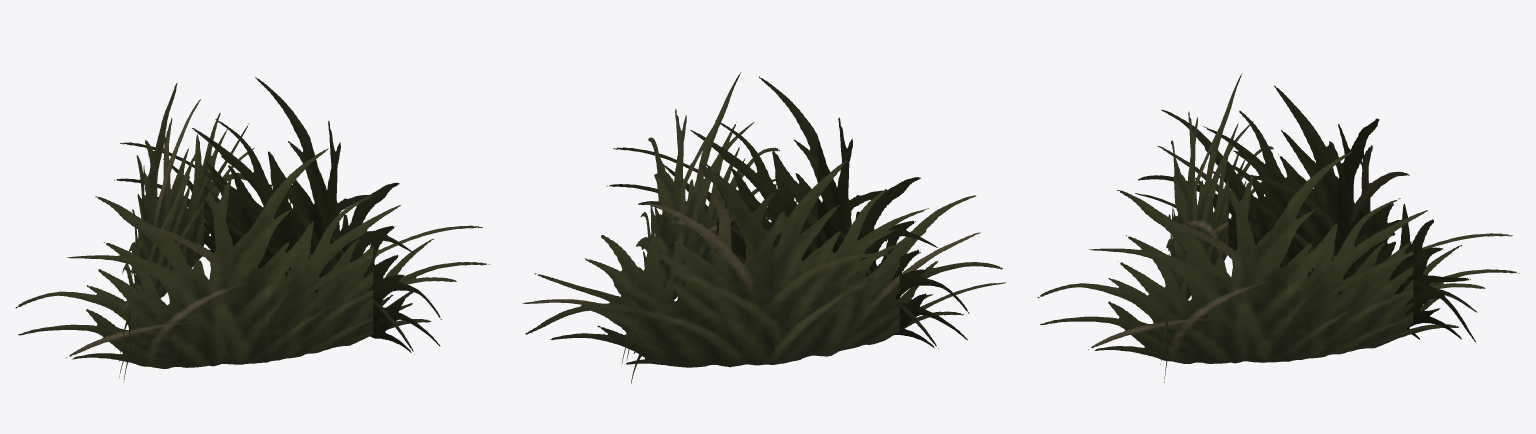
3 views of the same model, side by side, from view 1: azimuth 30°, elevation 25°; view 2: azimuth 150°, elevation 25°; view 3: azimuth 270°, elevation 25° (orthographic).
Parts seen in each view (by area): view 1: Bent meadow card; view 2: Bent meadow card; view 3: Bent meadow card.
Boxes of the visible parts, x1,y1,x2,y2 form: Bent meadow card: (15, 76, 489, 382); Bent meadow card: (522, 72, 1005, 383); Bent meadow card: (1037, 73, 1519, 382).
Size of the model in its own units: 1.65 by 0.765 by 1.67.
Materials: 1 (1 with a texture image).
